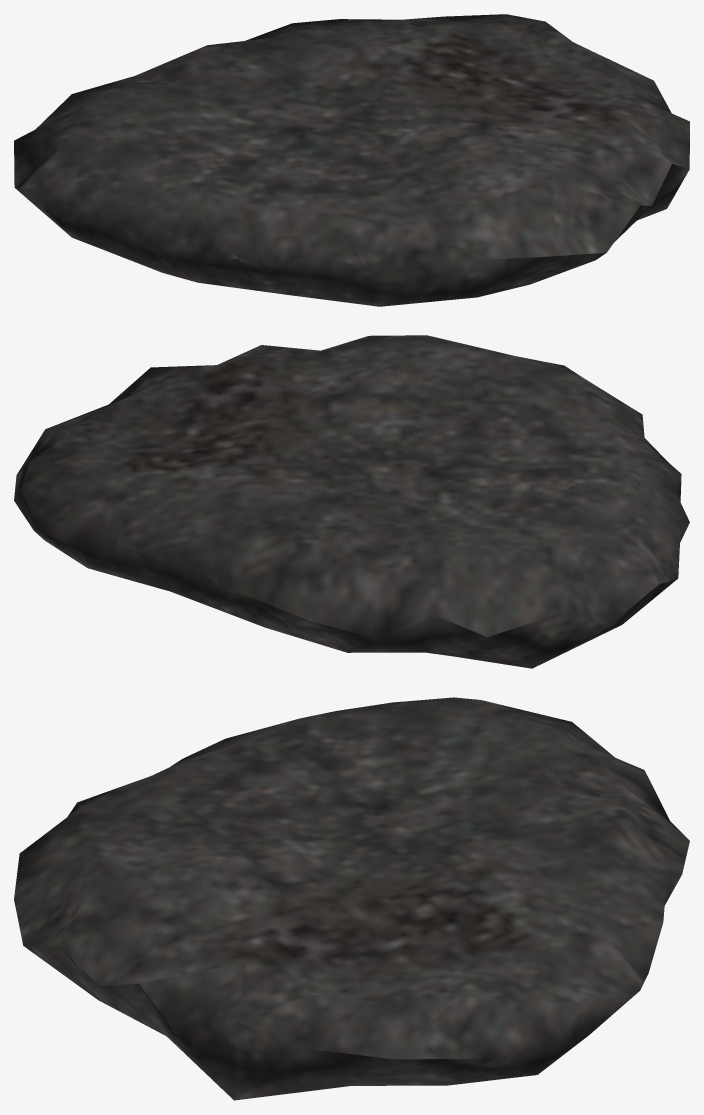
The model's file is rock 14.glb.
3 renders of one model, top to bottom at view 1: azimuth 30°, elevation 25°; view 2: azimuth 150°, elevation 25°; view 3: azimuth 270°, elevation 25°, orthographic. The views are drawn at different scales.
Visible parts, largest first — view 1: AR14; view 2: AR14; view 3: AR14.
Part boxes in pixels (bbox=[...]): AR14: bbox=[14, 14, 689, 306]; AR14: bbox=[14, 335, 689, 668]; AR14: bbox=[14, 697, 689, 1100].
Size of the model in its own units: 12.55 by 2.34 by 10.59.
Materials: 1 (1 with a texture image).
